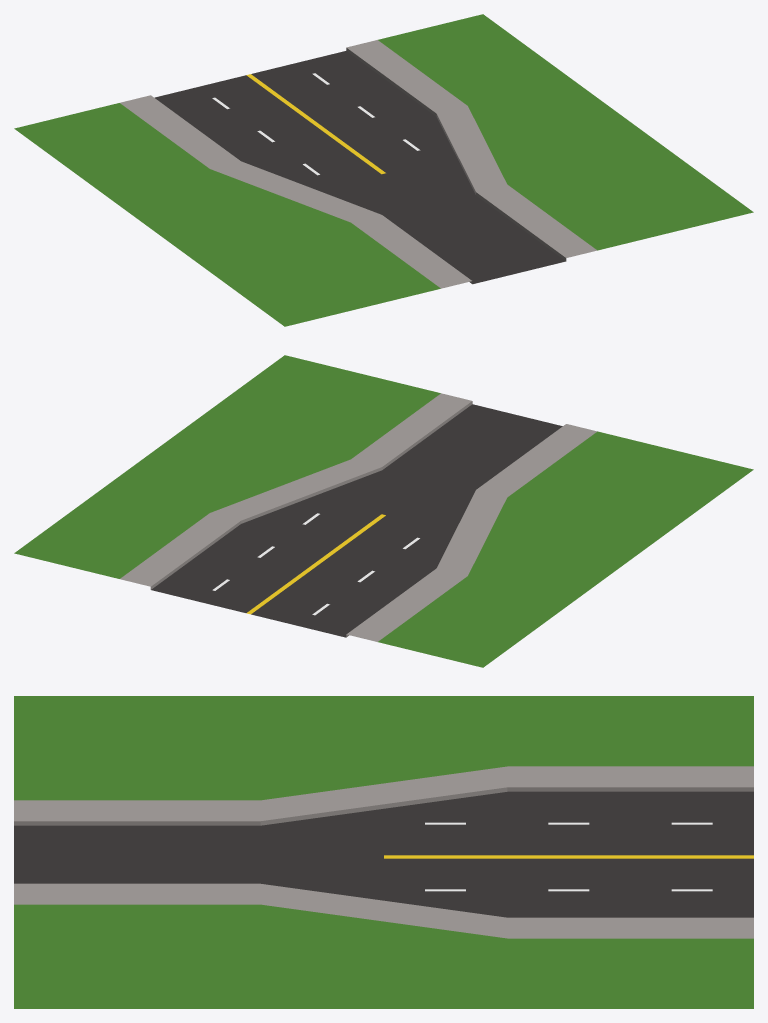
File: tiles-nb_tile-road-to-mainroad-nb.fbx
3 views of the same model, one above another, from view 1: azimuth 30°, elevation 25°; view 2: azimuth 150°, elevation 25°; view 3: azimuth 270°, elevation 25° (orthographic). The views are drawn at different scales.
Visible parts, largest first — view 1: tiles_nb_tile_road_to_mainroad_nb; view 2: tiles_nb_tile_road_to_mainroad_nb; view 3: tiles_nb_tile_road_to_mainroad_nb.
Part boxes in pixels (bbox=[...]): tiles_nb_tile_road_to_mainroad_nb: bbox=[14, 14, 753, 326]; tiles_nb_tile_road_to_mainroad_nb: bbox=[14, 355, 753, 667]; tiles_nb_tile_road_to_mainroad_nb: bbox=[14, 696, 753, 1008].
Bounding box in the file's own units: 200 × 1.33 × 200.
